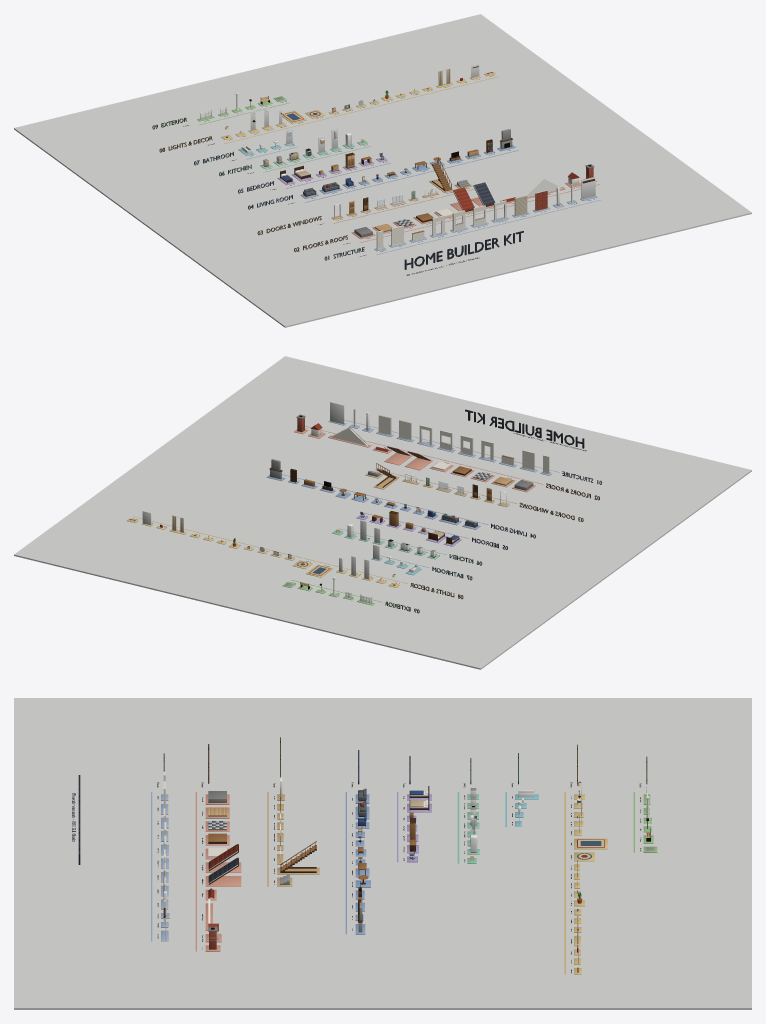
File: Showroom.glb
3 renders of one model, top to bottom at view 1: azimuth 30°, elevation 25°; view 2: azimuth 150°, elevation 25°; view 3: azimuth 270°, elevation 25°, orthographic. The views are drawn at different scales.
Visible parts, largest first — view 1: Showroom_Floor, T_HOME BUILDER KIT; view 2: Showroom_Floor, T_HOME BUILDER KIT; view 3: Showroom_Floor.
Boxes of the visible parts, box(x1,y1,x2,y2) form: Showroom_Floor: box(14, 14, 751, 327); T_HOME BUILDER KIT: box(404, 231, 523, 269); Showroom_Floor: box(14, 356, 751, 669); T_HOME BUILDER KIT: box(465, 409, 584, 448); Showroom_Floor: box(14, 698, 751, 1009).
Size of the model in its own units: 78.41 by 4.05 by 78.89.
